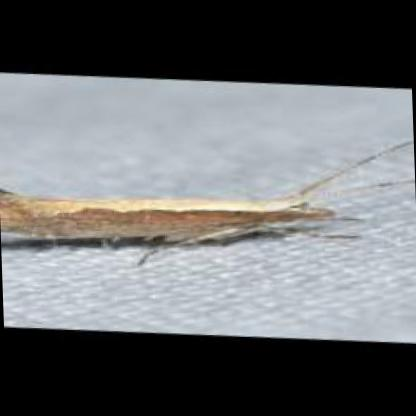plutella: (0, 147, 412, 251)
